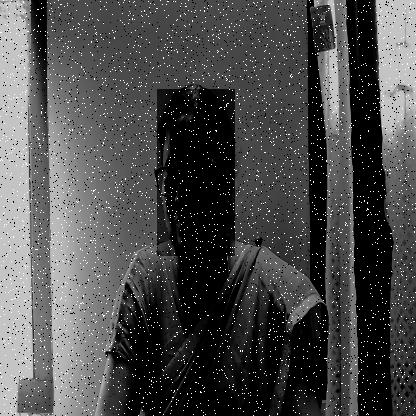Distracted: (157, 89, 235, 256)
